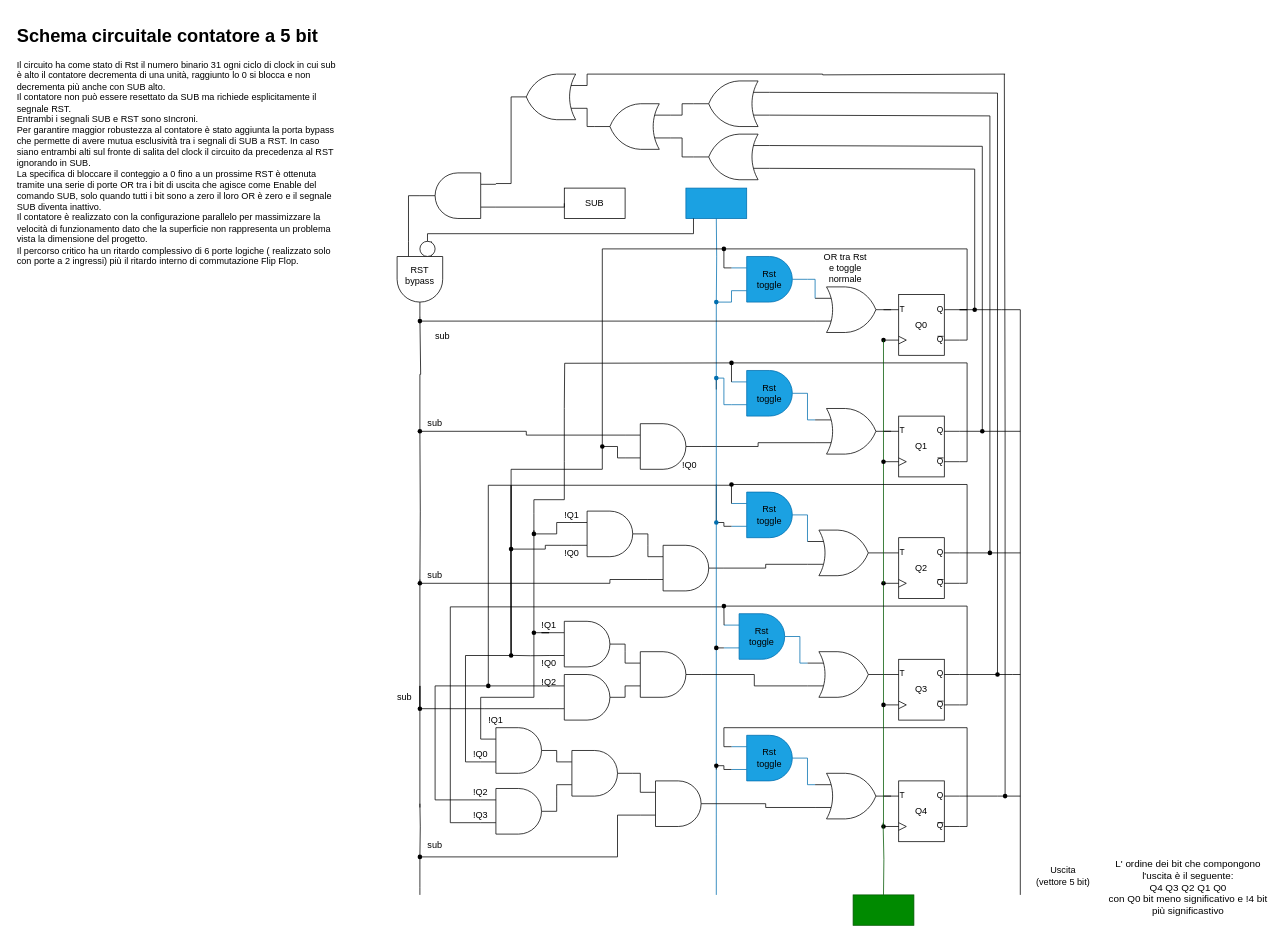
Some shapes in this 1284 by 939 pixel diagram are drawn without their labels. Here are the shapes that lost their labels. From the top down, the box of each, then its label:
(419, 172, 496, 218): Enable Sub
(685, 187, 747, 218): RST
(852, 894, 914, 925): CLOCK
